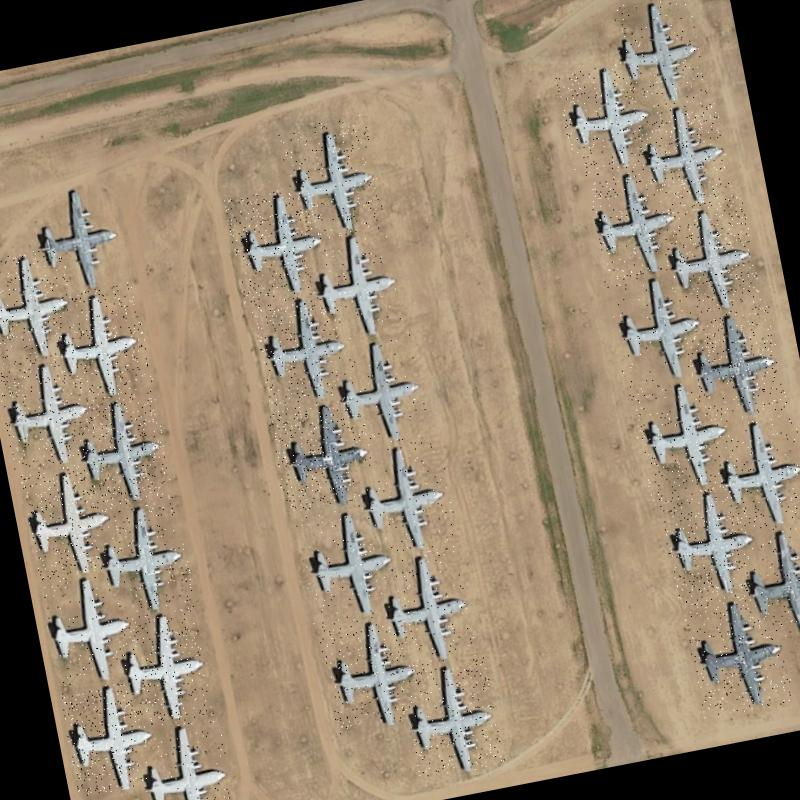A2: (681, 586, 795, 719), (628, 372, 740, 502), (292, 500, 402, 631), (278, 113, 386, 244), (20, 174, 133, 299), (45, 280, 155, 408), (317, 611, 429, 735), (266, 394, 380, 514), (224, 182, 336, 304), (349, 436, 460, 559), (374, 544, 478, 674), (679, 303, 789, 425), (86, 496, 196, 617), (399, 656, 505, 780), (658, 481, 764, 604), (604, 264, 709, 388), (302, 226, 412, 344), (115, 602, 215, 731), (554, 57, 660, 178), (0, 351, 105, 473), (19, 459, 123, 582), (58, 678, 162, 798), (660, 194, 762, 316), (73, 388, 174, 511), (250, 288, 354, 407), (40, 566, 139, 688), (586, 162, 686, 282), (332, 329, 430, 449), (609, 0, 708, 112), (636, 99, 734, 212), (713, 412, 800, 535), (0, 244, 82, 369), (132, 711, 240, 800), (738, 514, 800, 646)
